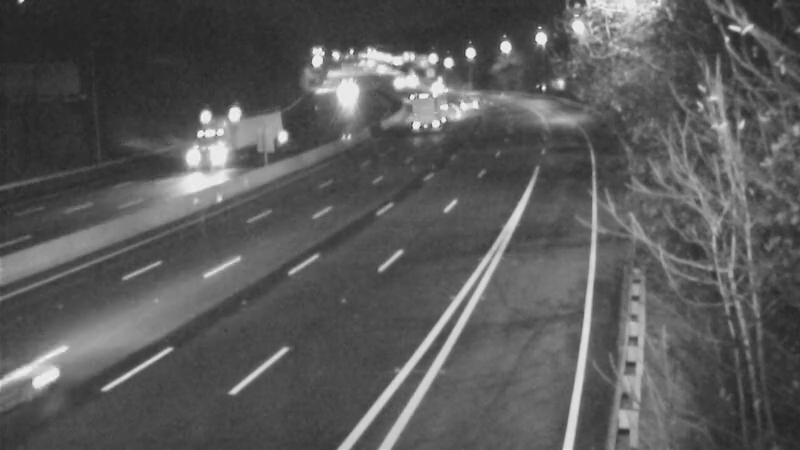vehicle: (167, 120, 247, 200), (414, 63, 464, 113), (442, 79, 492, 129), (403, 82, 453, 132), (325, 68, 375, 118)
